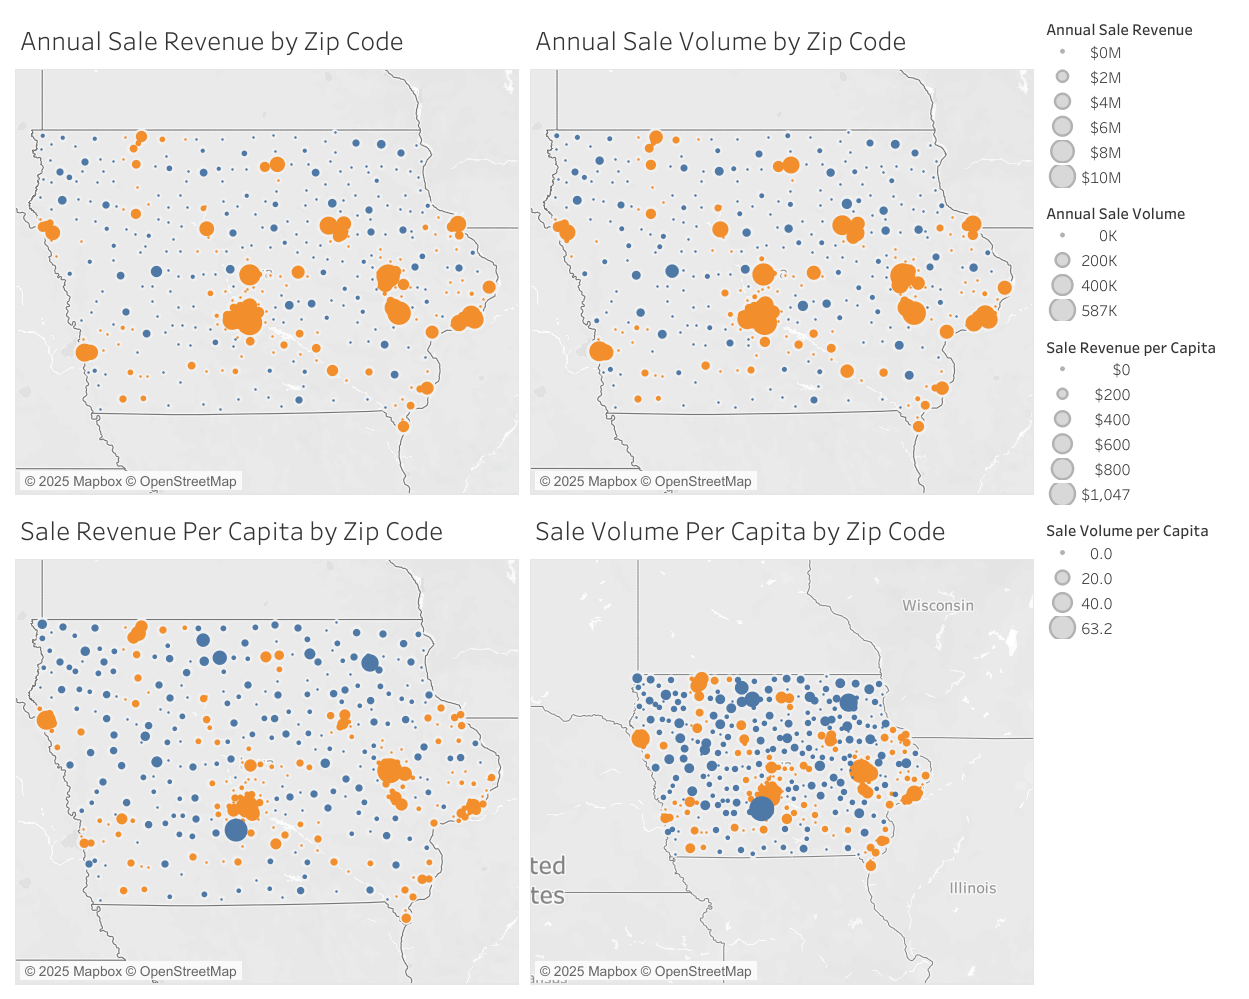

This screenshot's page, from the dashboard's own definition file:
{"tool":"tableau","page":{"name":"Consumption Maps","canvas":[1000,800],"ordinal":0},"visuals":[{"type":"worksheet","title":"Annual Sale Revenue by Zip Code","mark":"Automatic","box":[8,8,412,392]},{"type":"worksheet","title":"Annual Sale Volume by Zip Code","mark":"Automatic","box":[420,8,412,392]},{"type":"legend","title":"Annual Sale Revenue by Zip Code","param":"[federated.160dr690cwzs2j1aq9tm2014iqfz].[sum:sale_dollars:qk]","box":[832,8,160,146]},{"type":"legend","title":"Annual Sale Volume by Zip Code","param":"[federated.160dr690cwzs2j1aq9tm2014iqfz].[sum:sale_volume:qk]","box":[832,154,160,106]},{"type":"legend","title":"Sale Revenue Per Capita by Zip Code","param":"[federated.160dr690cwzs2j1aq9tm2014iqfz].[usr:Calculation_2371145207671689221:qk","box":[832,260,160,146]},{"type":"worksheet","title":"Sale Revenue Per Capita by Zip Code","mark":"Automatic","box":[8,400,412,392]},{"type":"worksheet","title":"Sale Volume Per Capita by Zip Code","mark":"Automatic","box":[420,400,412,392]},{"type":"legend","title":"Sale Volume Per Capita by Zip Code","param":"[federated.160dr690cwzs2j1aq9tm2014iqfz].[usr:Calculation_2371145207671230468:qk","box":[832,406,160,106]}]}

Visuals, with their boxes in screenshot pixels (x1, y1, x2, y2), scaled from the page's 1000x800 canvas onto the 1249x999 screenshot:
"Annual Sale Revenue by Zip Code" worksheet: {"x1": 10, "y1": 10, "x2": 525, "y2": 500}
"Annual Sale Volume by Zip Code" worksheet: {"x1": 525, "y1": 10, "x2": 1039, "y2": 500}
"Annual Sale Revenue by Zip Code" legend: {"x1": 1039, "y1": 10, "x2": 1239, "y2": 192}
"Annual Sale Volume by Zip Code" legend: {"x1": 1039, "y1": 192, "x2": 1239, "y2": 325}
"Sale Revenue Per Capita by Zip Code" legend: {"x1": 1039, "y1": 325, "x2": 1239, "y2": 507}
"Sale Revenue Per Capita by Zip Code" worksheet: {"x1": 10, "y1": 500, "x2": 525, "y2": 989}
"Sale Volume Per Capita by Zip Code" worksheet: {"x1": 525, "y1": 500, "x2": 1039, "y2": 989}
"Sale Volume Per Capita by Zip Code" legend: {"x1": 1039, "y1": 507, "x2": 1239, "y2": 639}
